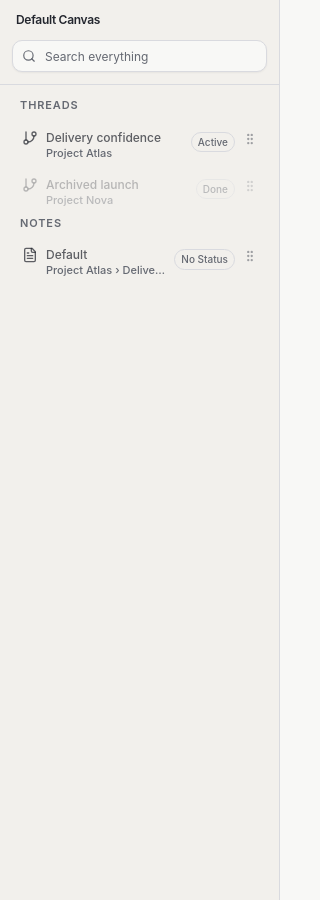
EntityLibrarySidebar › searches labels and hierarchy context while preserving partitions
Expected: the text "Threads" is shown, 20,98 -> 79,112
Expected: the text "Notes" is shown, 20,216 -> 62,230
Type "Project Nova" into the search field named "Search Canvas items" at x=140, y=56, box 12,40 -> 267,72
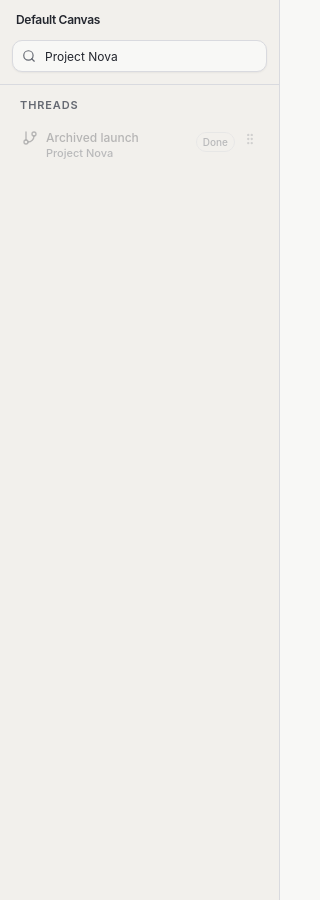
Expected: the text "Archived launch" is shown, 46,130 -> 139,144
Expected: the button "Delivery confidence" is gone
Expected: the text "Notes" is gone
